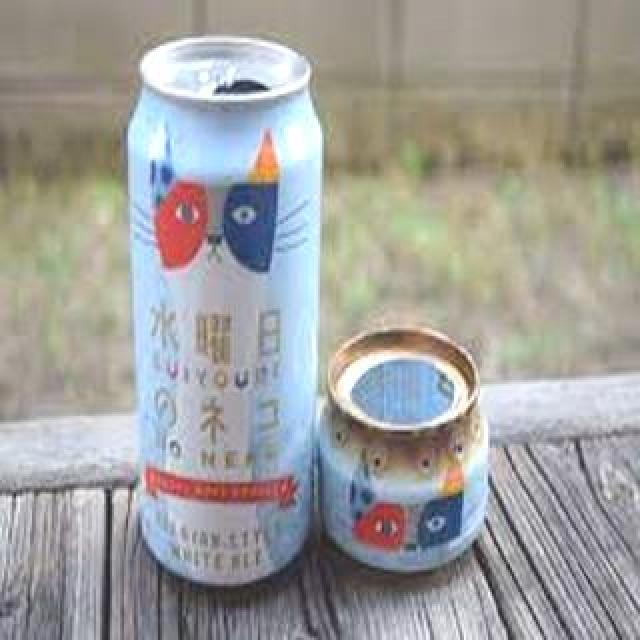Can: (112, 25, 338, 583)
